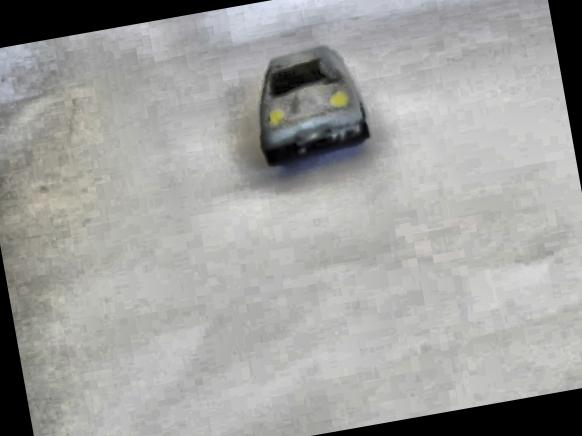normal_car: (259, 47, 369, 164)
